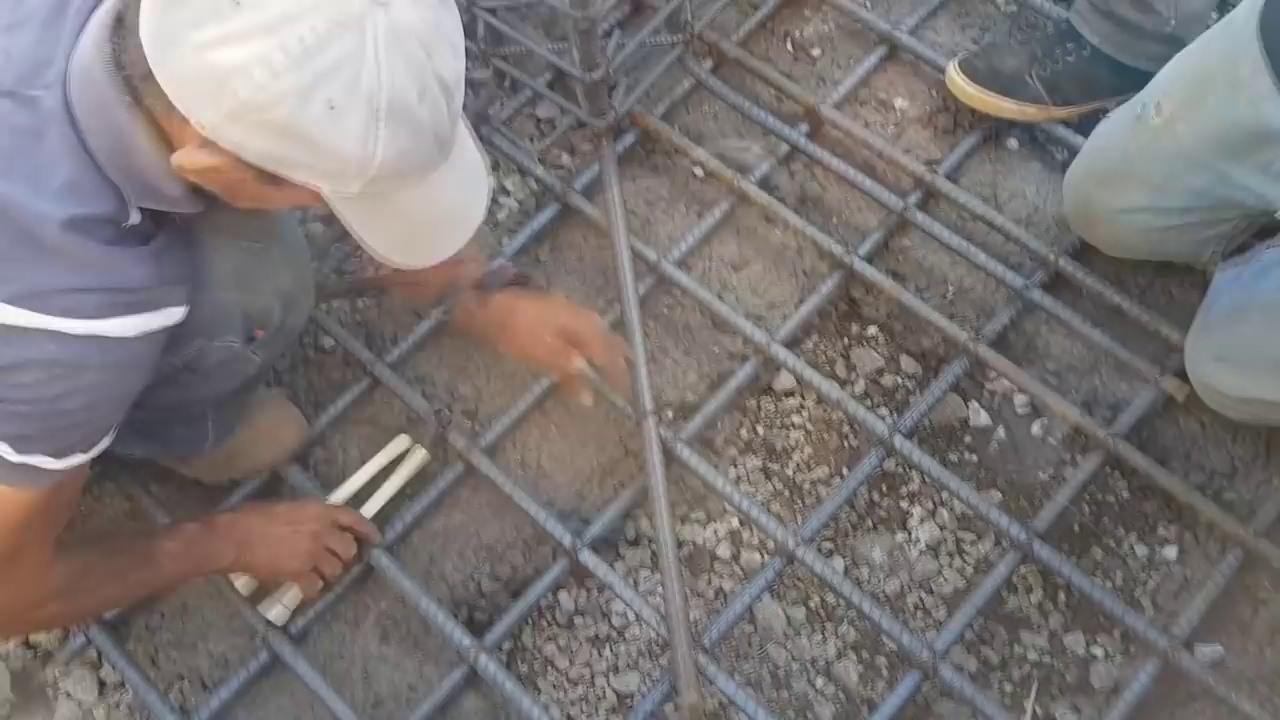helmet-off: (123, 9, 483, 280)
person: (0, 0, 612, 630), (1060, 3, 1280, 430)
